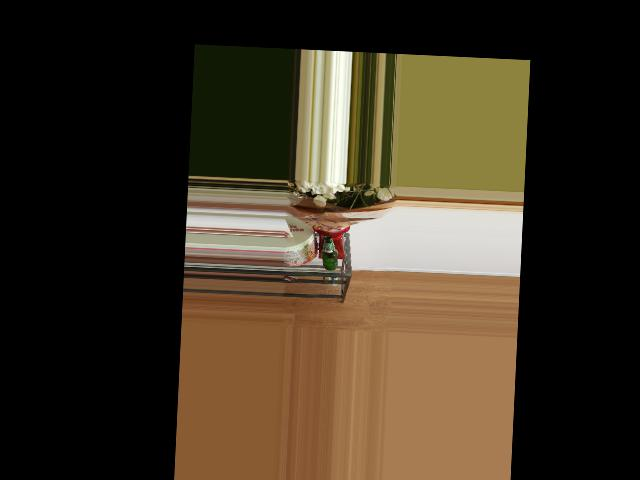beer: (319, 236, 339, 271)
